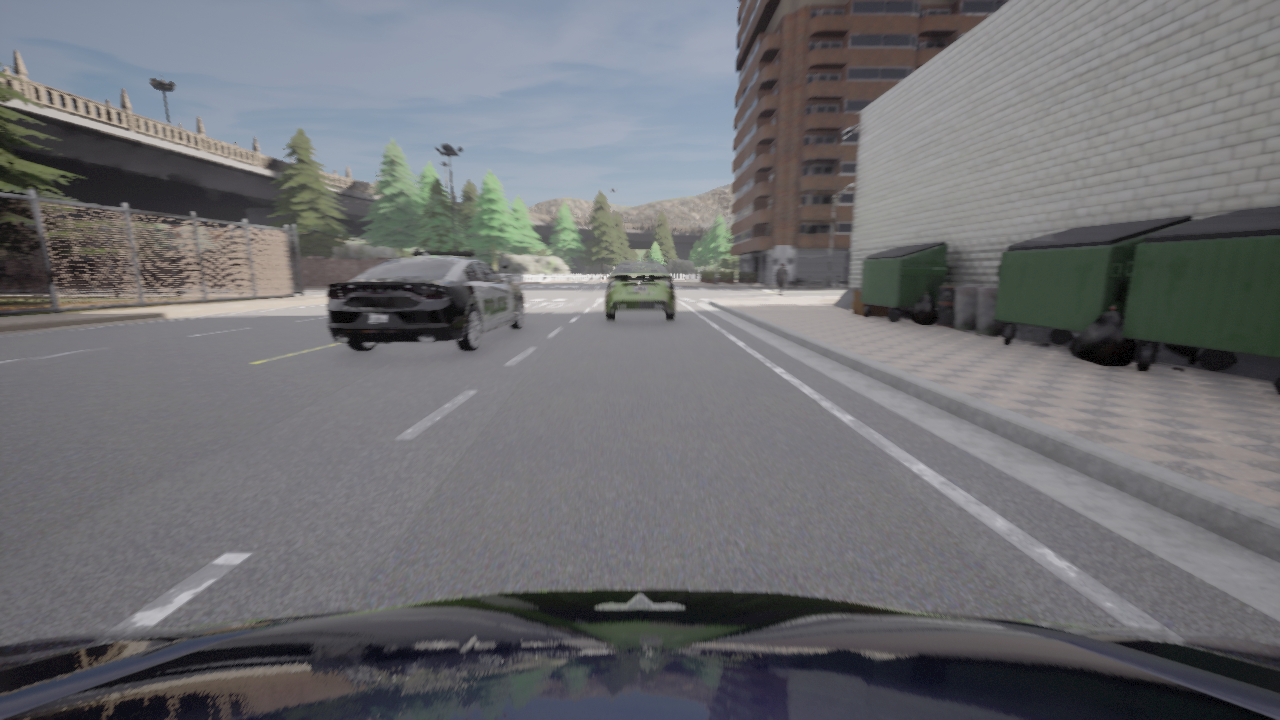cyclist: (0, 588, 1279, 719), (327, 249, 523, 351), (605, 262, 675, 320)
pedestrian: (776, 263, 787, 294)
